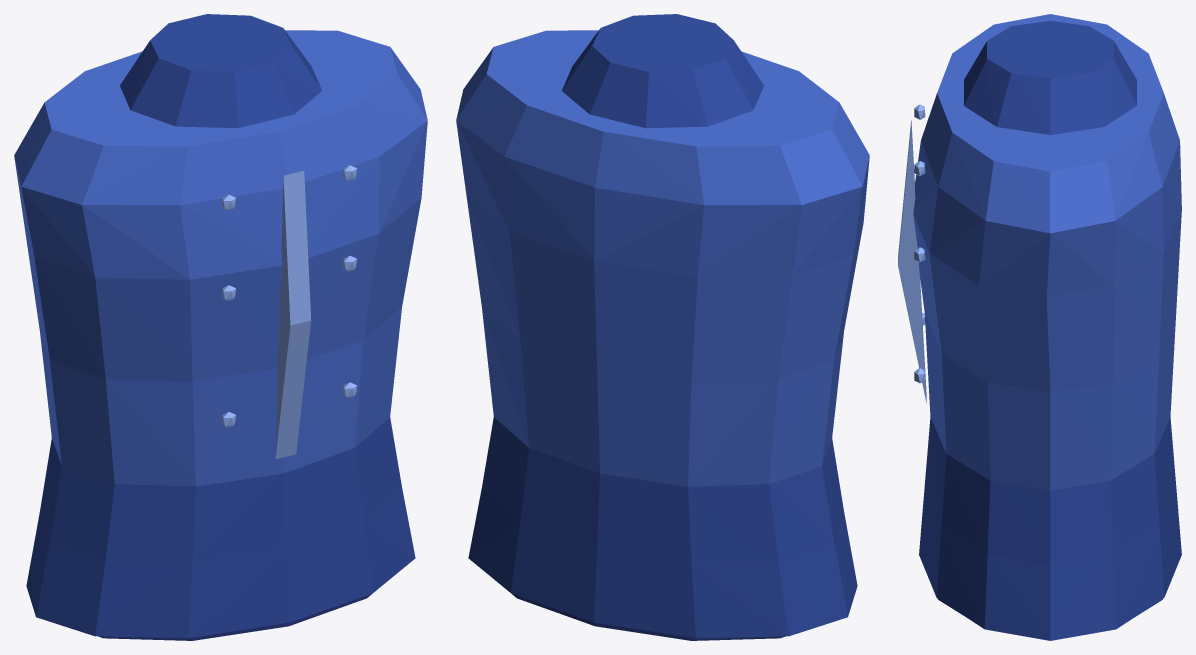
File: gear_mithril_body_torso_m.glb
3 views of the same model, side by side, from view 1: azimuth 30°, elevation 25°; view 2: azimuth 150°, elevation 25°; view 3: azimuth 270°, elevation 25° (orthographic). The views are drawn at different scales.
Visible parts, largest first — view 1: gear_mithril_body_torso_m; view 2: gear_mithril_body_torso_m; view 3: gear_mithril_body_torso_m.
Boxes of the visible parts, left/top/right/bottom form: gear_mithril_body_torso_m: left=14, top=14, right=427, bottom=640; gear_mithril_body_torso_m: left=456, top=14, right=869, bottom=640; gear_mithril_body_torso_m: left=898, top=14, right=1181, bottom=640.
Size of the model in its own units: 0.462 by 0.59 by 0.298.
